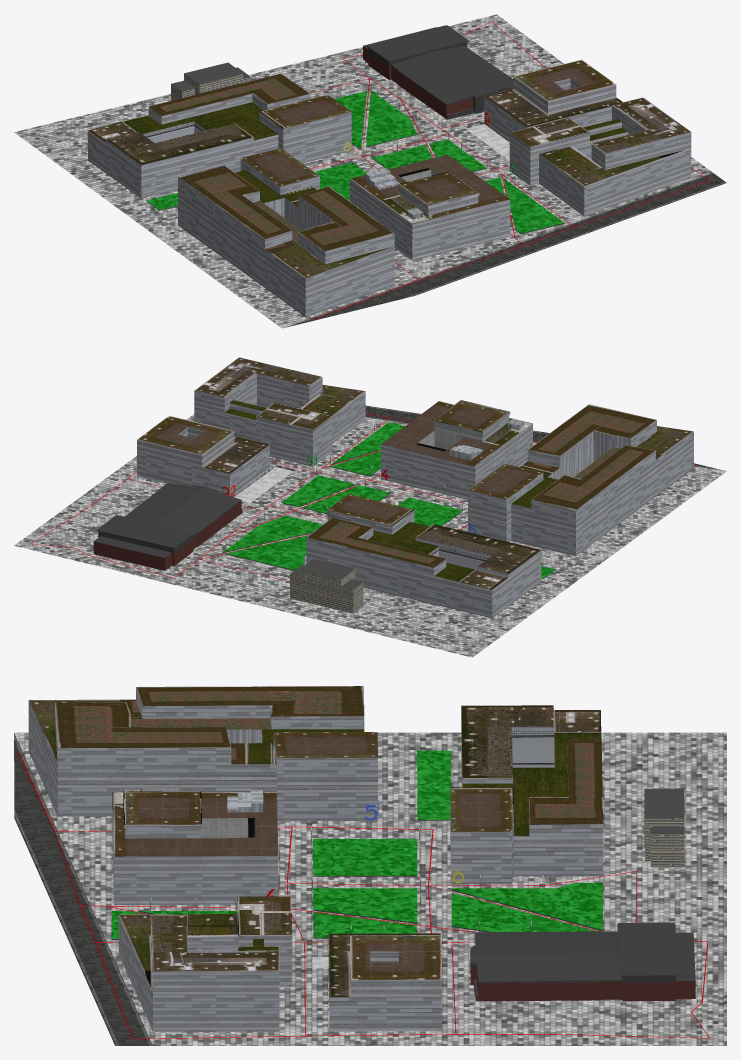
The model's file is HsdFixed.glb.
The picture shows the model from 3 angles, top to bottom: view 1: azimuth 30°, elevation 25°; view 2: azimuth 150°, elevation 25°; view 3: azimuth 270°, elevation 25°; orthographic projection. The views are drawn at different scales.
Visible parts, largest first — view 1: Boden, 5, 6, 3, 4, 1, Rasen, 2, 11, pfad; view 2: Boden, 5, 6, 3, 4, Rasen, 1, 2, 11, pfad; view 3: Boden, 5, 6, 3, Rasen, 4, 1, 2, pfad, 11.
Boxes of the visible parts, bbox=[...] form: Boden: bbox=[14, 14, 726, 328]; 5: bbox=[178, 148, 394, 316]; 6: bbox=[88, 73, 351, 198]; 3: bbox=[509, 97, 691, 216]; 4: bbox=[349, 154, 510, 260]; 1: bbox=[363, 25, 513, 119]; Rasen: bbox=[146, 90, 564, 233]; 2: bbox=[484, 59, 622, 140]; 11: bbox=[171, 62, 250, 100]; pfad: bbox=[310, 21, 710, 320]; Boden: bbox=[14, 405, 726, 657]; 5: bbox=[468, 404, 693, 556]; 6: bbox=[306, 494, 541, 618]; 3: bbox=[194, 357, 365, 466]; 4: bbox=[381, 400, 532, 499]; Rasen: bbox=[222, 422, 555, 578]; 1: bbox=[93, 483, 242, 570]; 2: bbox=[137, 416, 269, 496]; 11: bbox=[290, 559, 363, 613]; pfad: bbox=[31, 413, 697, 581]; Boden: bbox=[14, 732, 726, 1045]; 5: bbox=[28, 686, 377, 820]; 6: bbox=[450, 705, 603, 884]; 3: bbox=[118, 896, 292, 1031]; Rasen: bbox=[111, 750, 602, 968]; 4: bbox=[112, 789, 278, 904]; 1: bbox=[470, 922, 695, 1001]; 2: bbox=[328, 933, 441, 1031]; pfad: bbox=[17, 751, 710, 1039]; 11: bbox=[644, 788, 684, 867].
Bounding box in the file's own units: 98.46 × 10.67 × 94.72.
27 materials, 15 textured.
